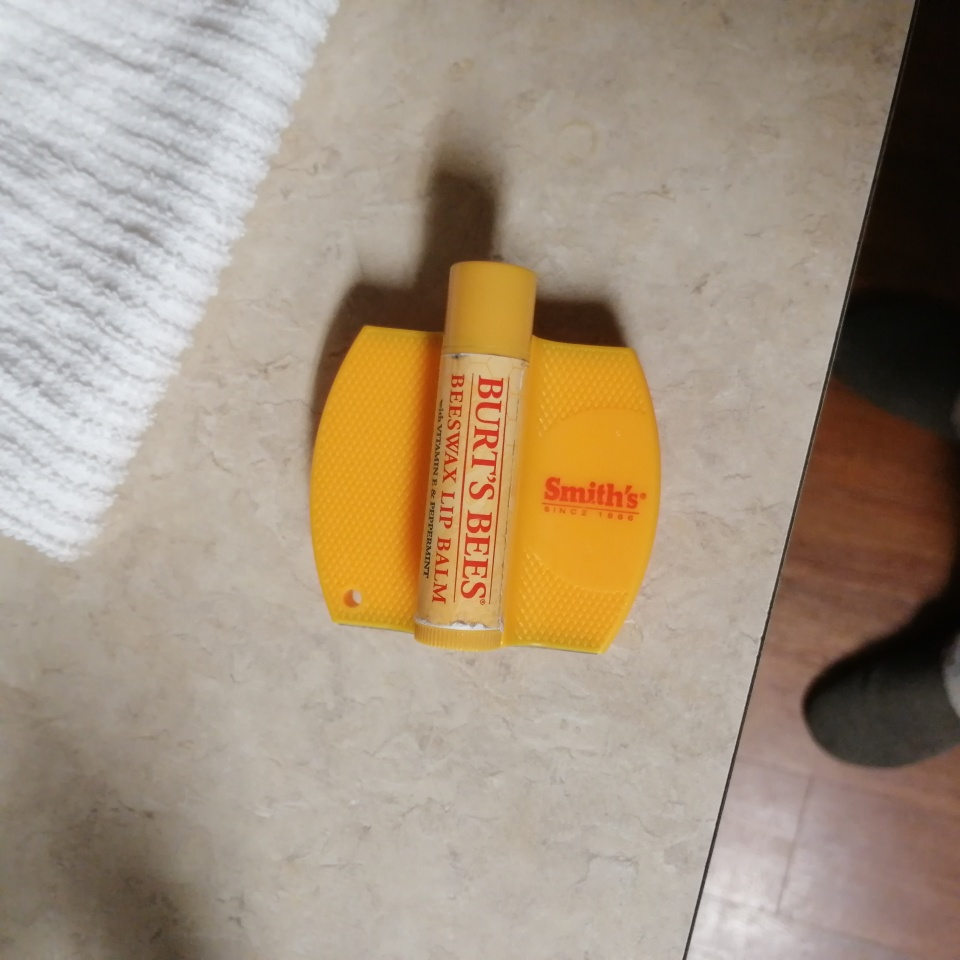chapstick: (414, 259, 538, 651)
